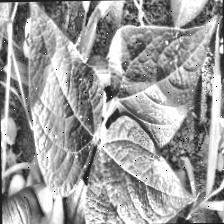ALS: (102, 22, 218, 147), (82, 112, 192, 224)
